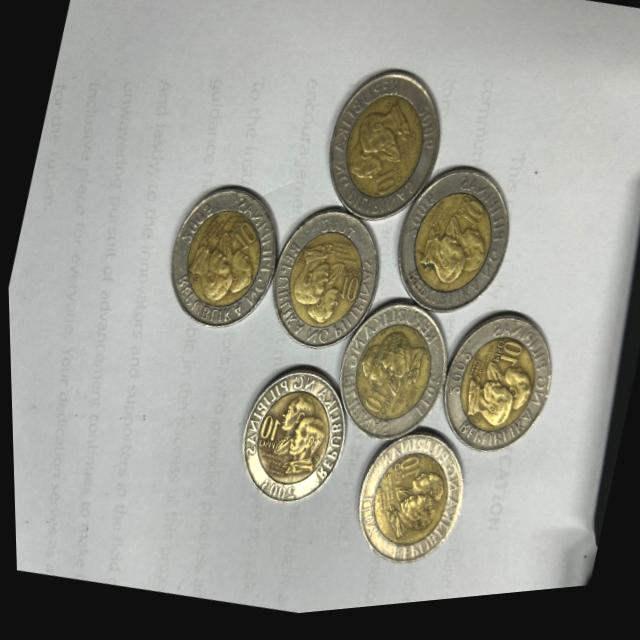10_Old_Front: (367, 169, 398, 209), (453, 205, 485, 243), (227, 223, 257, 259), (356, 390, 384, 426), (253, 417, 280, 451), (390, 460, 417, 492), (493, 348, 520, 379), (333, 281, 358, 313)
